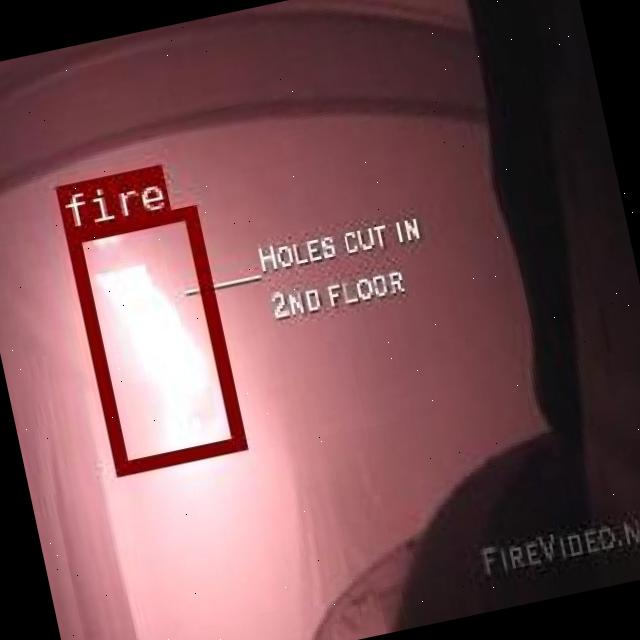fire: (64, 203, 242, 472)
